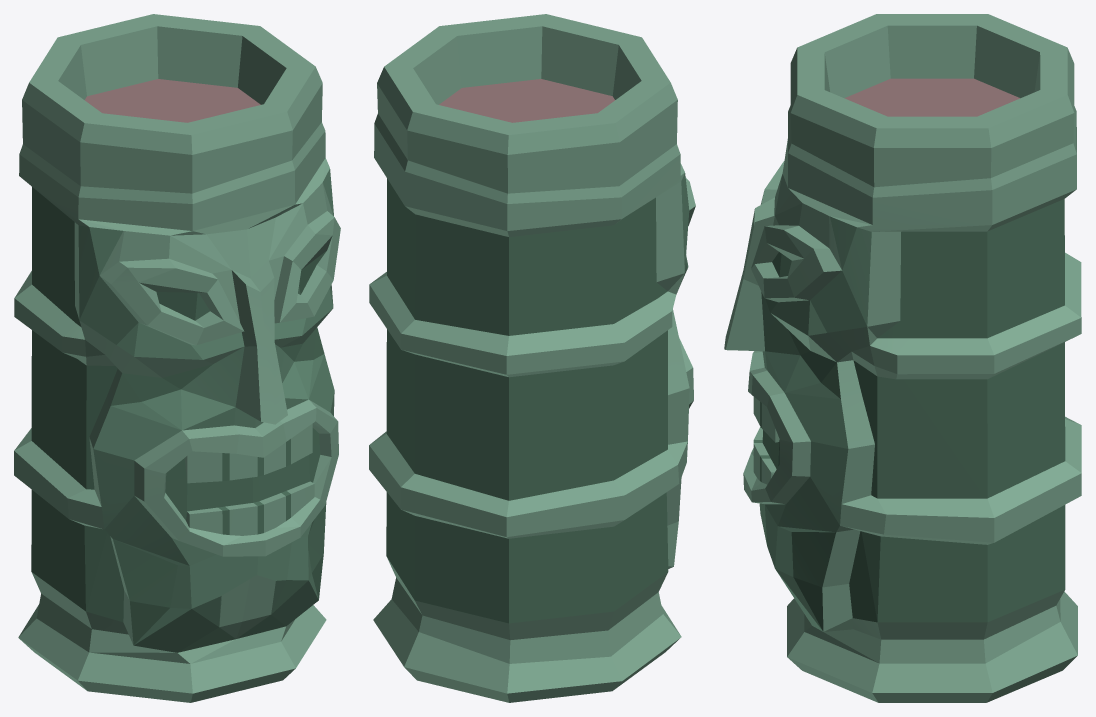
The model's file is SM_Prop_Tiki_Cup_01.obj.
The picture shows the model from 3 angles, left to right: view 1: azimuth 30°, elevation 25°; view 2: azimuth 150°, elevation 25°; view 3: azimuth 270°, elevation 25°; orthographic projection.
Parts seen in each view (by area): view 1: SM_Prop_Tiki_Cup_01_0; view 2: SM_Prop_Tiki_Cup_01_0; view 3: SM_Prop_Tiki_Cup_01_0.
Part boxes in pixels (box(x1,y1,x2,y2)): SM_Prop_Tiki_Cup_01_0: box(14, 14, 340, 702); SM_Prop_Tiki_Cup_01_0: box(369, 14, 695, 702); SM_Prop_Tiki_Cup_01_0: box(724, 14, 1081, 702).
Bounding box in the file's own units: 0.1627 × 0.3465 × 0.1947.
Materials: 1 (1 with a texture image).
